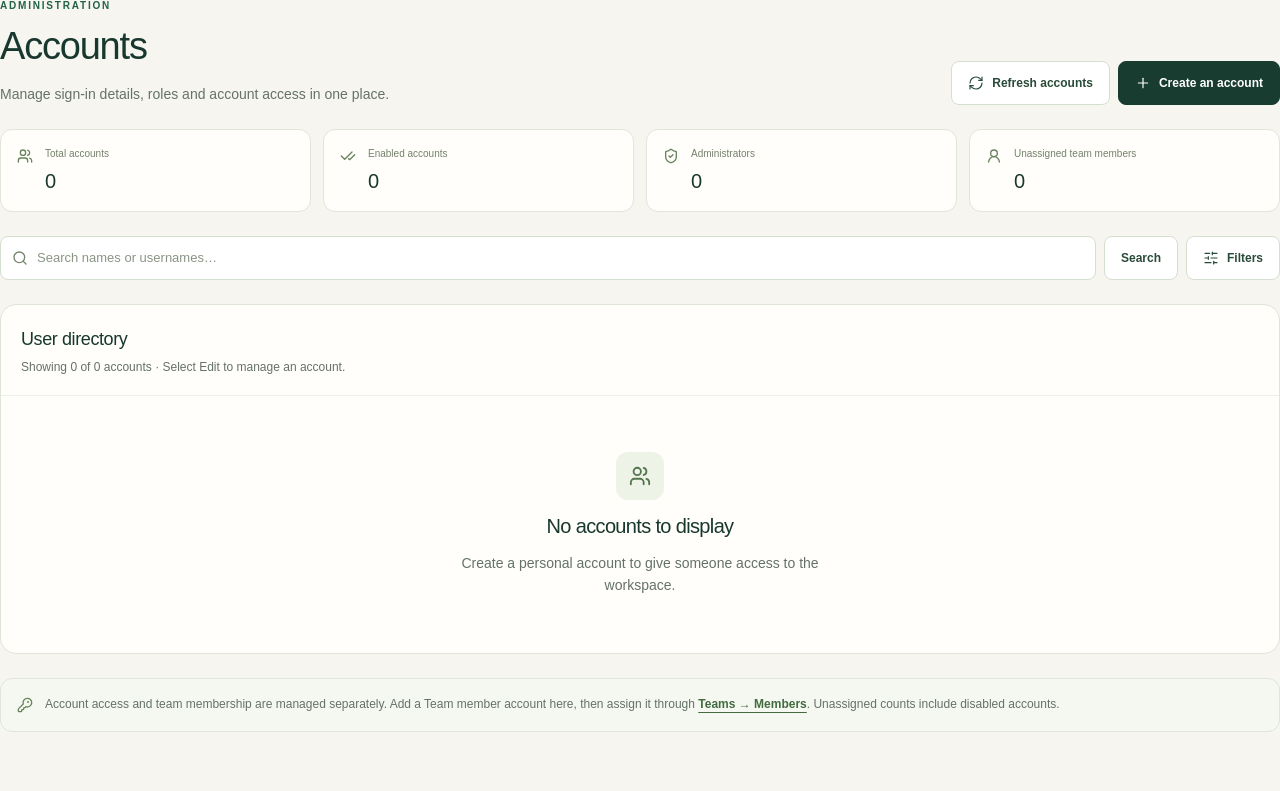
it: administrator account management › creates an inactive personal account without rejecting a successful inactive response
Expected: the heading "No accounts to display" is shown, [546,512,733,540]
Step 1. Click the button "Create an account" → (1199, 83), box [1118,61,1279,105]
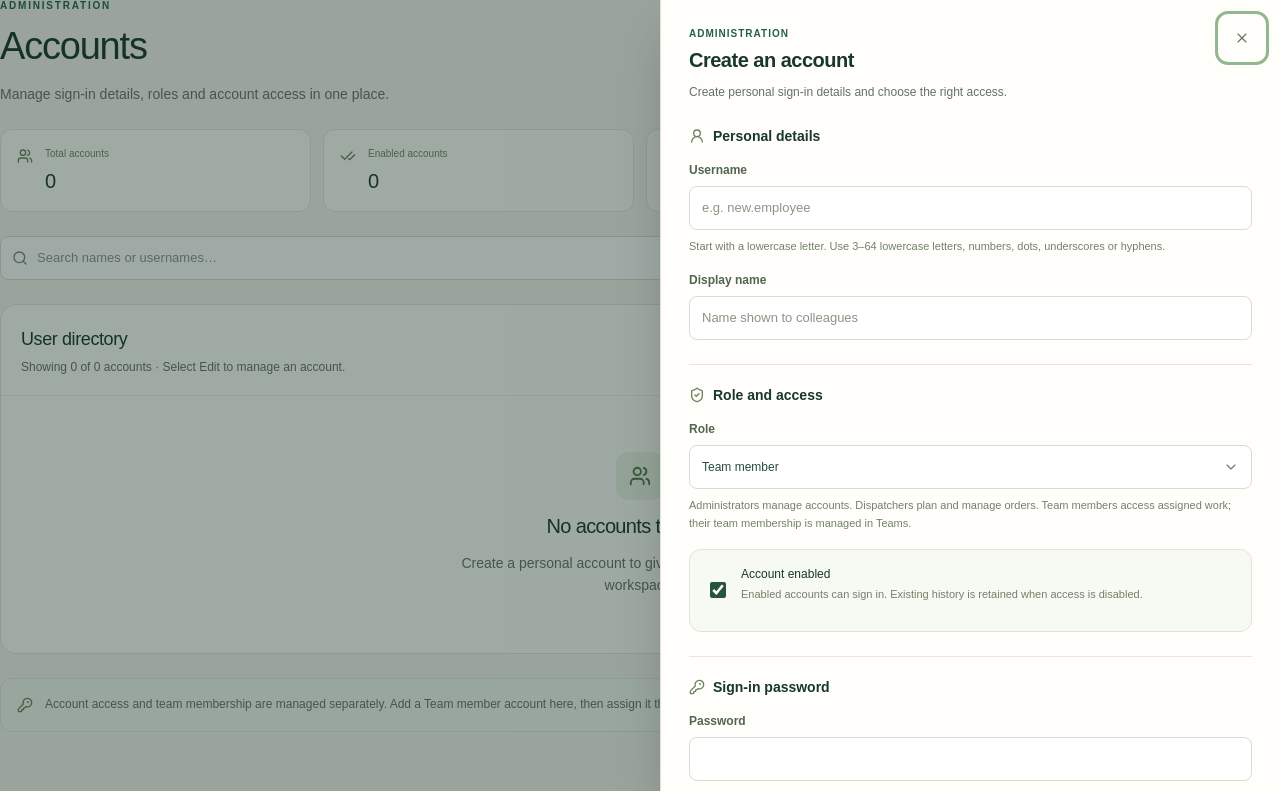
Step 2. Type "new.worker" into the field labelled "Username" → (970, 208), box [689,186,1252,230]
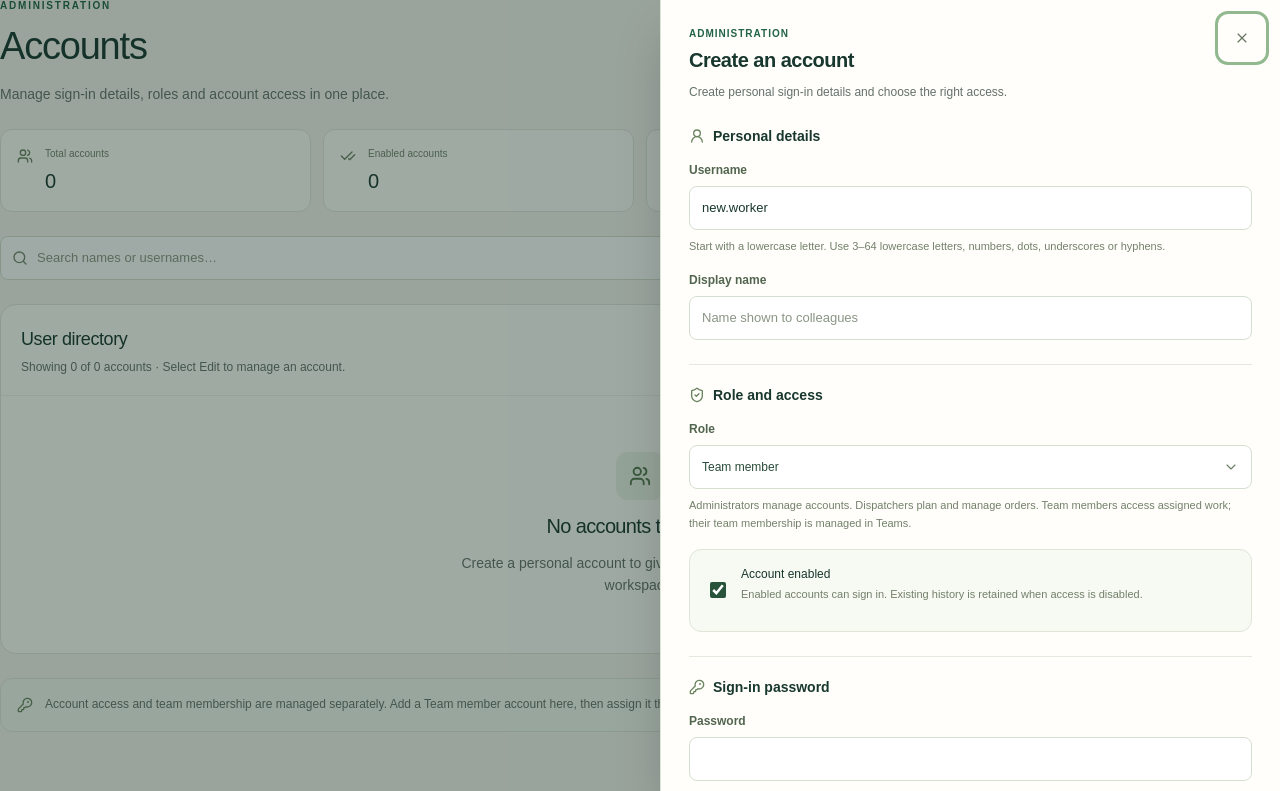
Step 3. Type "New worker" into the field labelled "Display name" → (970, 318), box [689,296,1252,340]
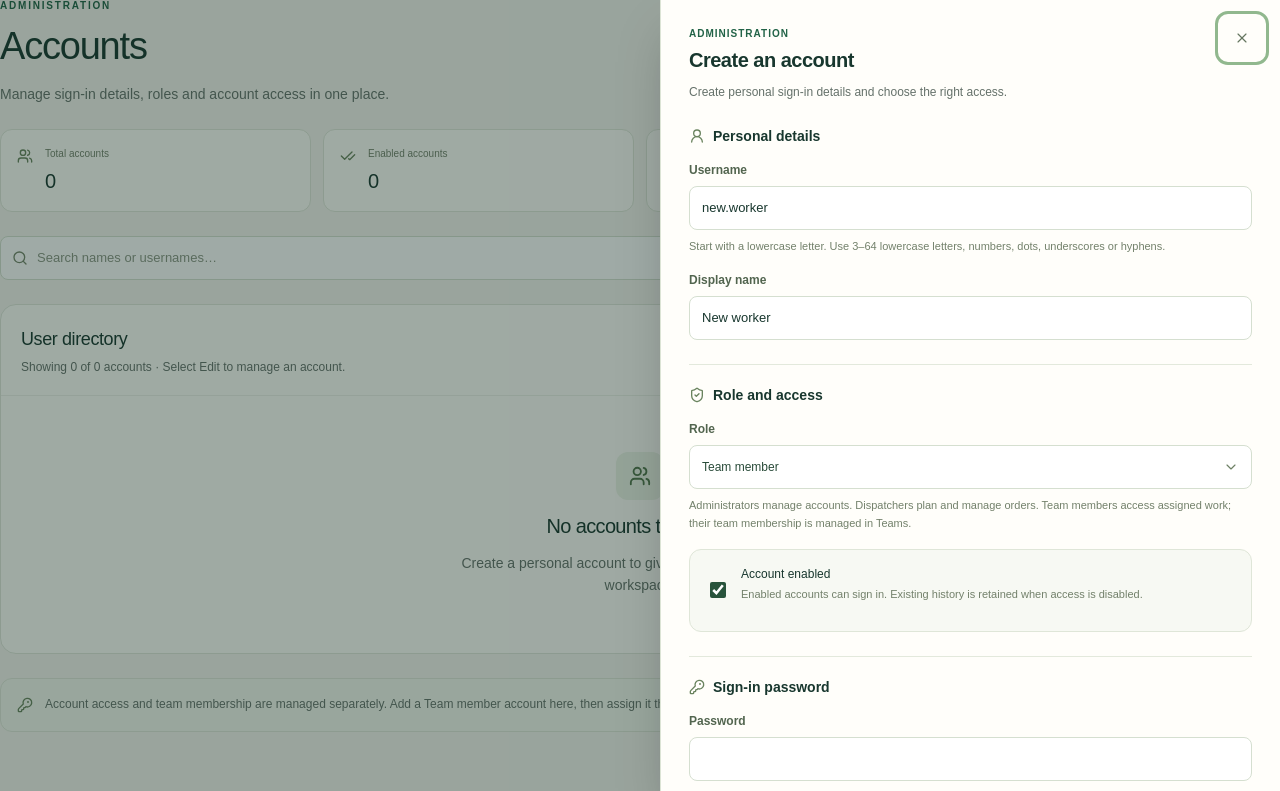
Step 4. Type "test-only-password" into the password field labelled "Password" → (970, 759), box [689,737,1252,781]
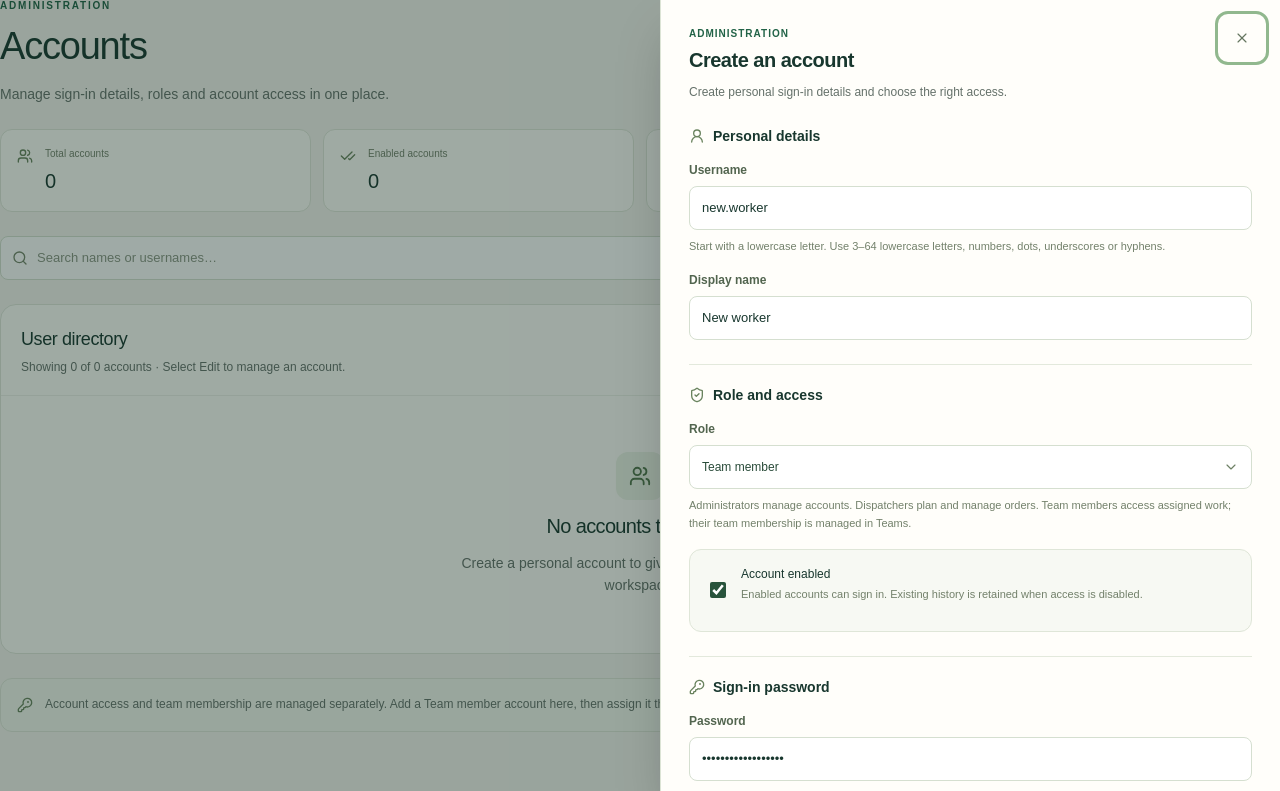
Step 5. Click the checkbox labelled "Account enabled" → (718, 590), box [710,568,726,612]
(page scrolled)
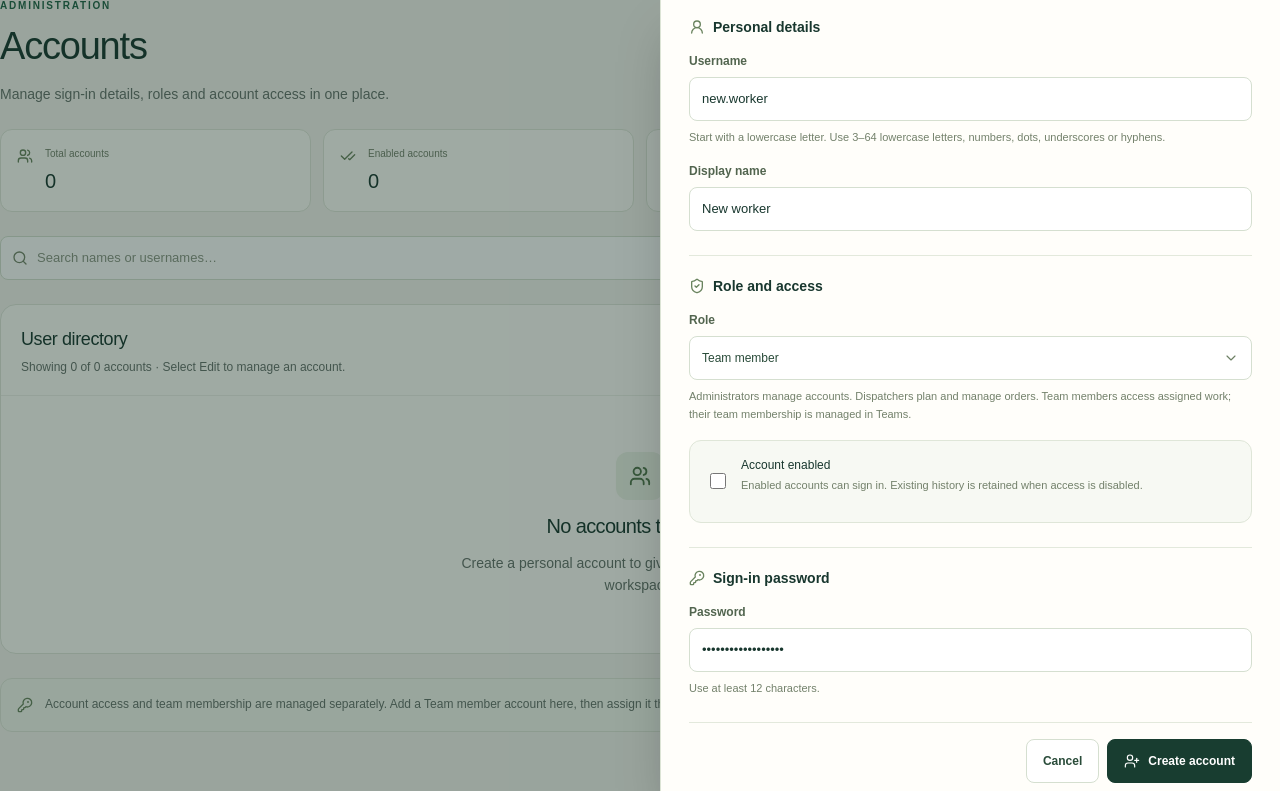
Step 6. Submit the form named "Create account", box [689,17,1252,782]
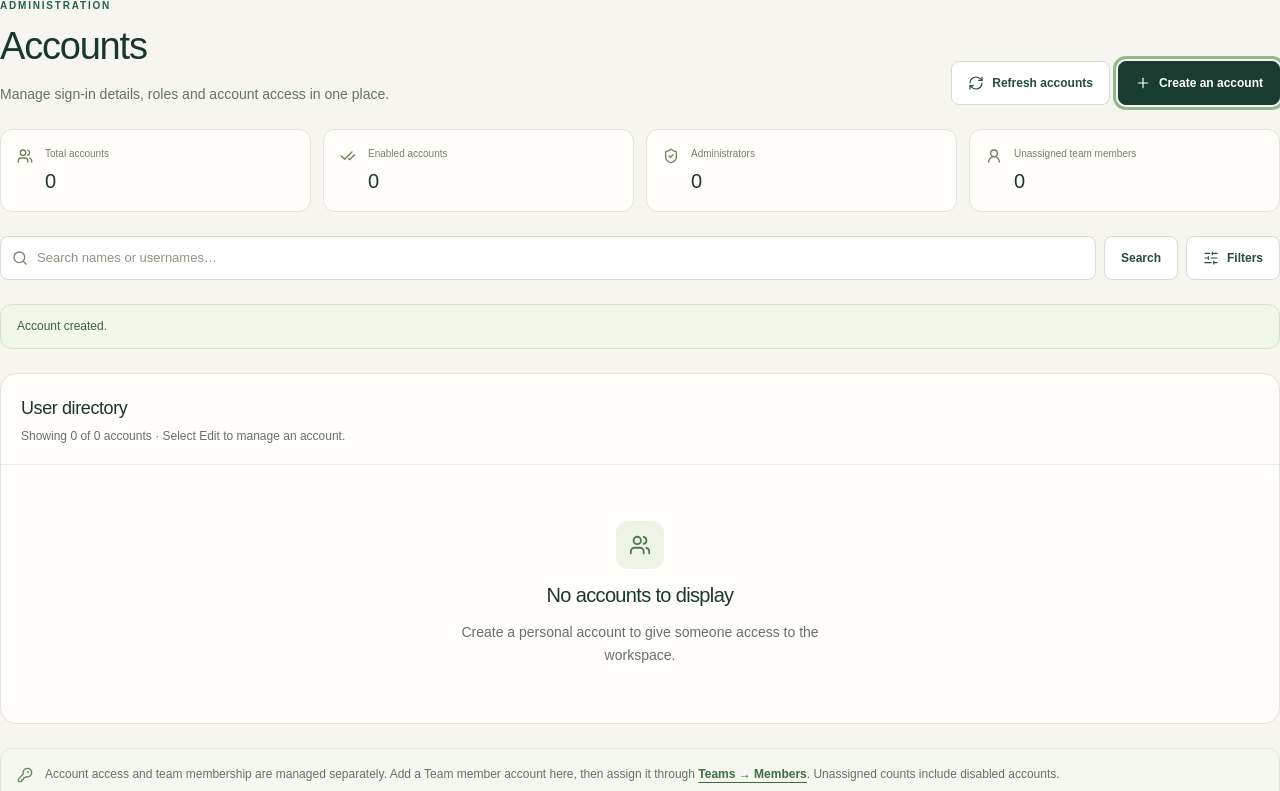
Expected: the text "Account created." is shown, [17,316,107,336]
